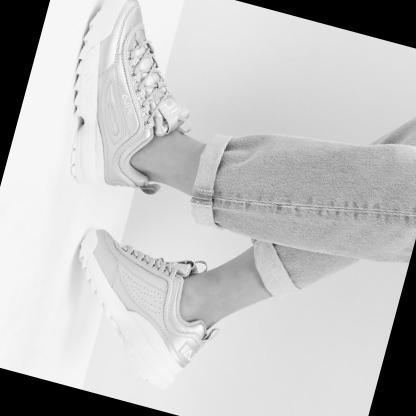ankle: (175, 305, 180, 310), (126, 160, 129, 164)
heel: (171, 370, 176, 375), (96, 179, 100, 183)
left_foot: (49, 224, 238, 400)
pinky: (112, 32, 115, 35), (110, 238, 112, 240)
right_foot: (47, 1, 196, 199)
toe: (95, 246, 98, 249), (138, 13, 140, 15)
